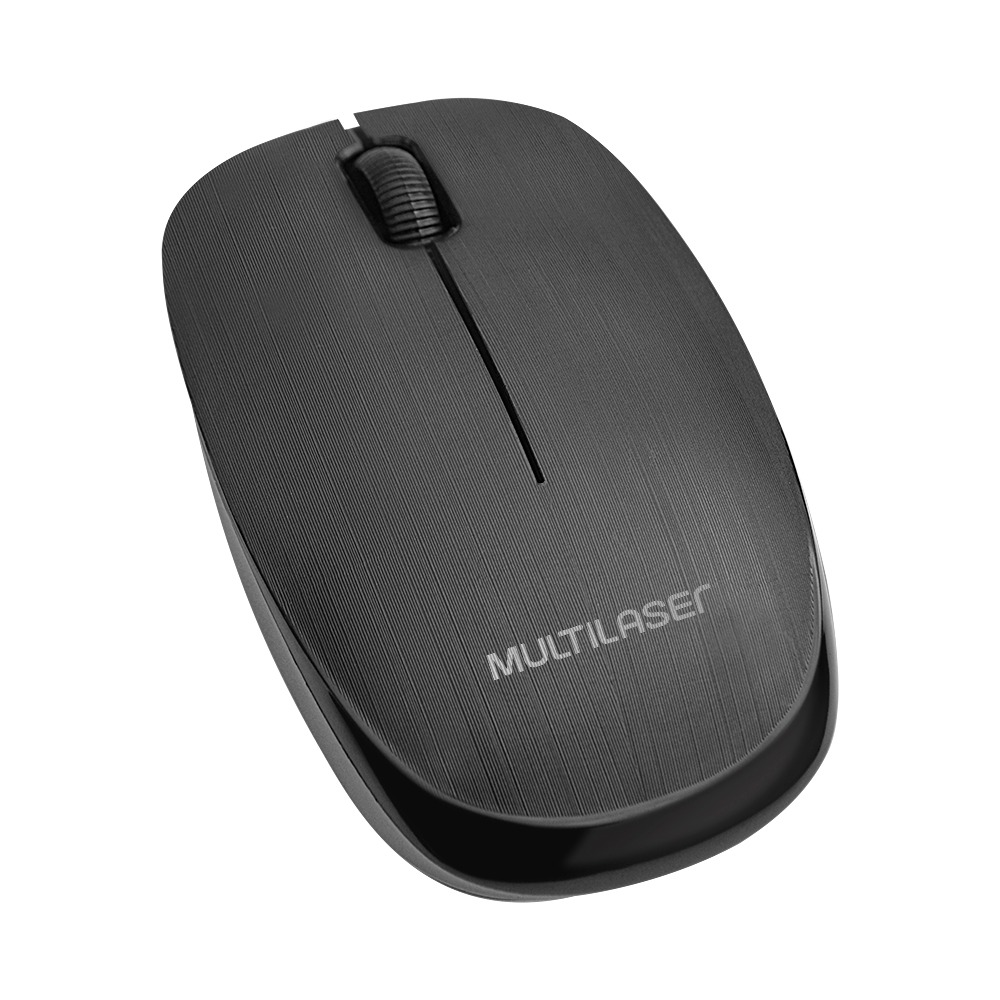mouse: (162, 89, 845, 906)
